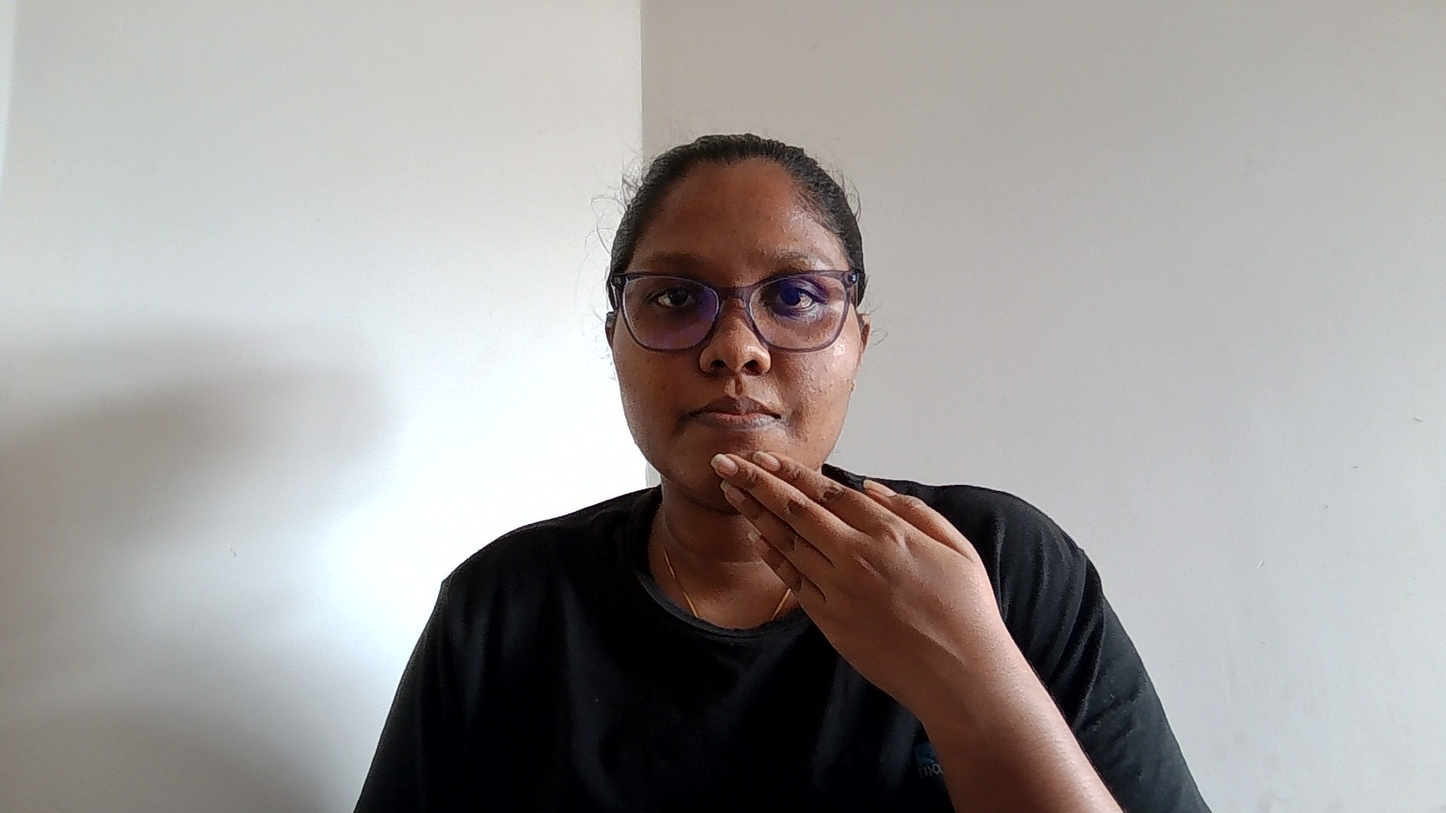Thank You: (627, 405, 1249, 714)
